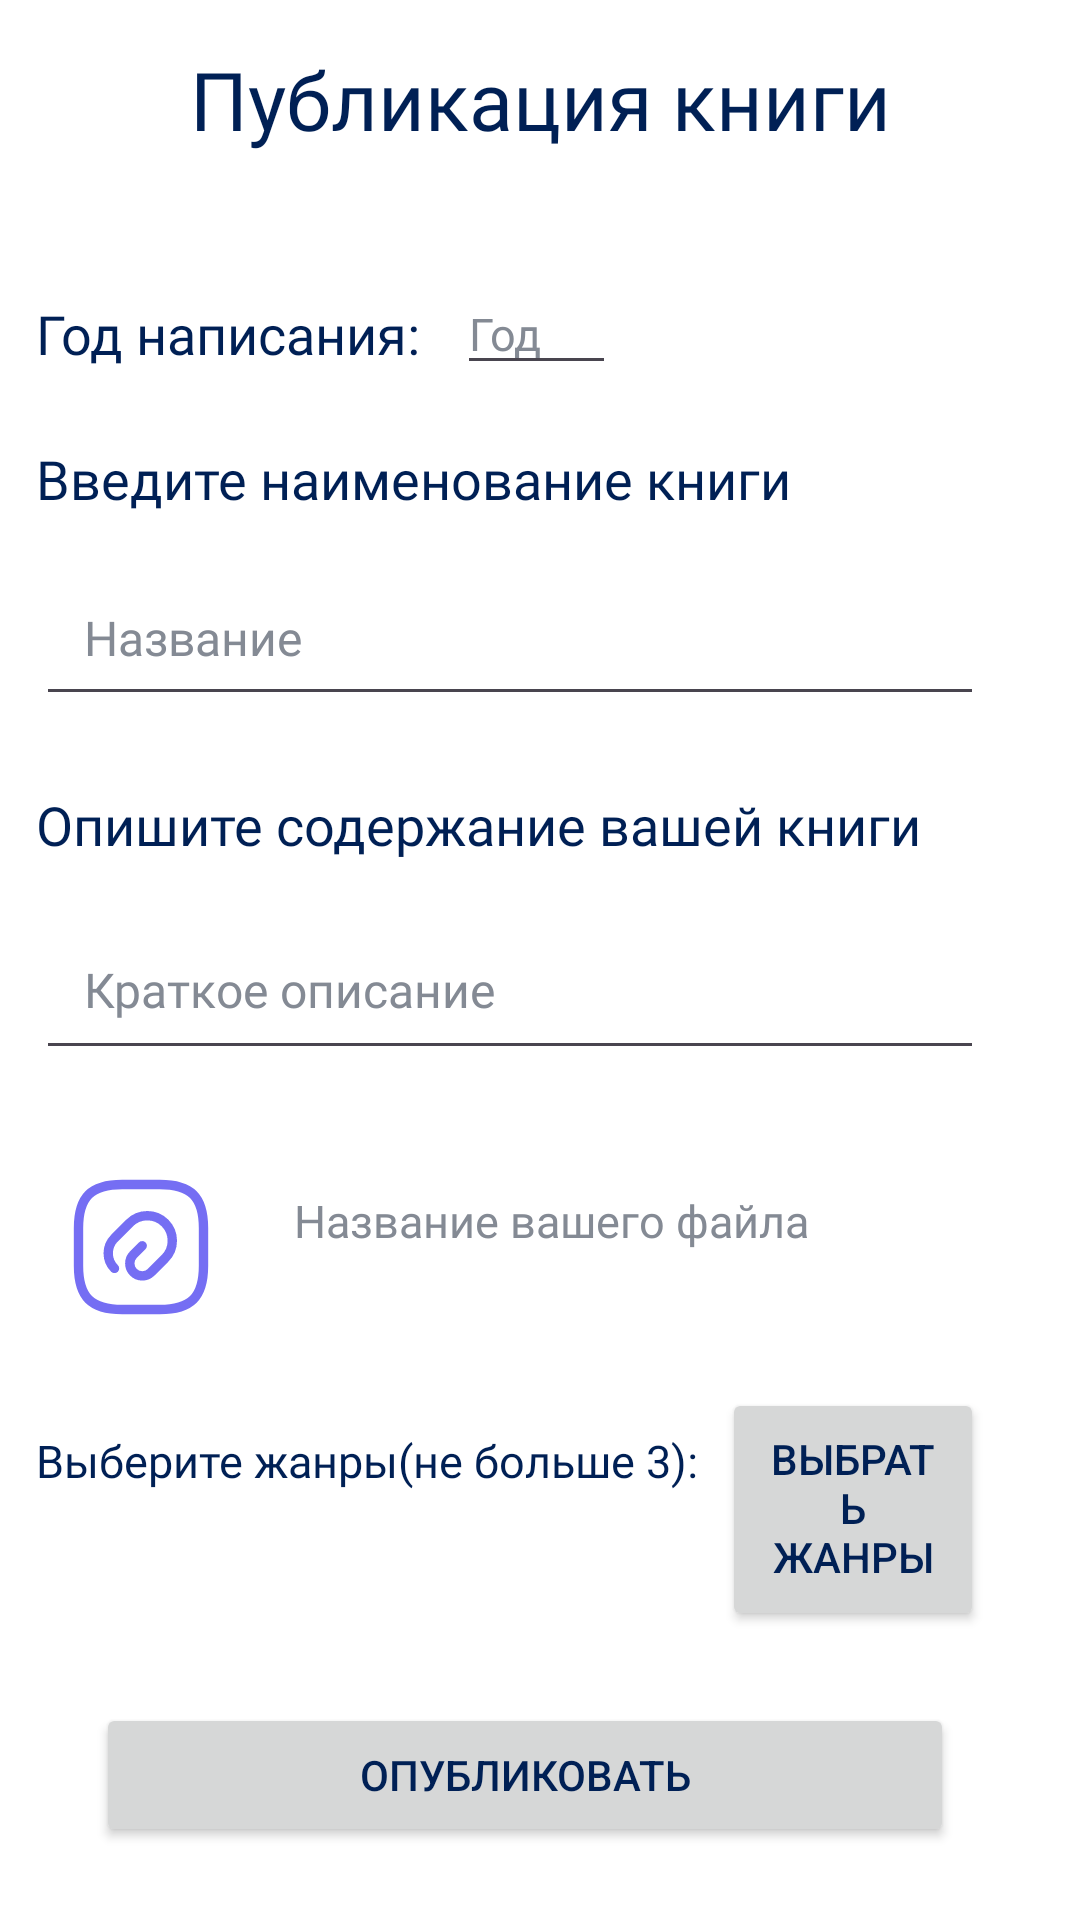

Icon click points for this 1080 × 1920 phone screenshot, format (x=x, y=y):
attach file: (x=141, y=1247)
